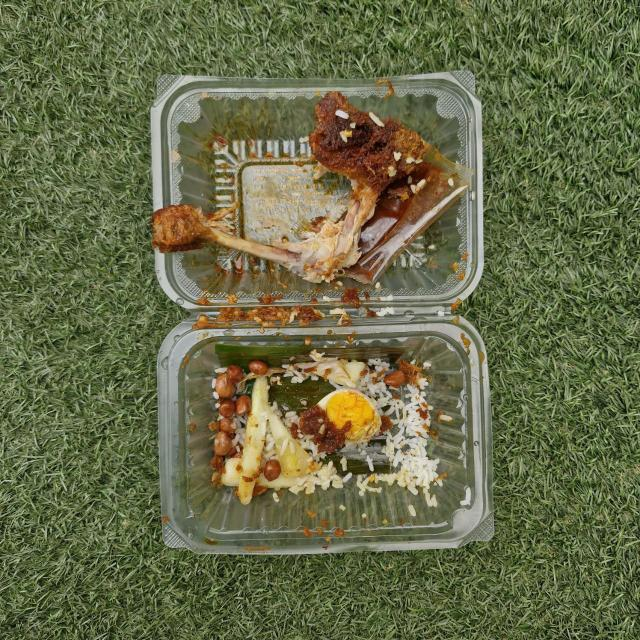food_waste: (156, 106, 424, 286), (200, 361, 440, 494)
plastic: (144, 78, 492, 556)
